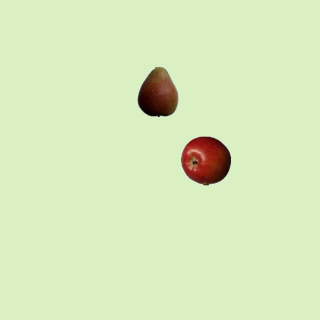Apple Braeburn: (180, 135, 230, 185)
Pear Forelle: (132, 66, 182, 116)
